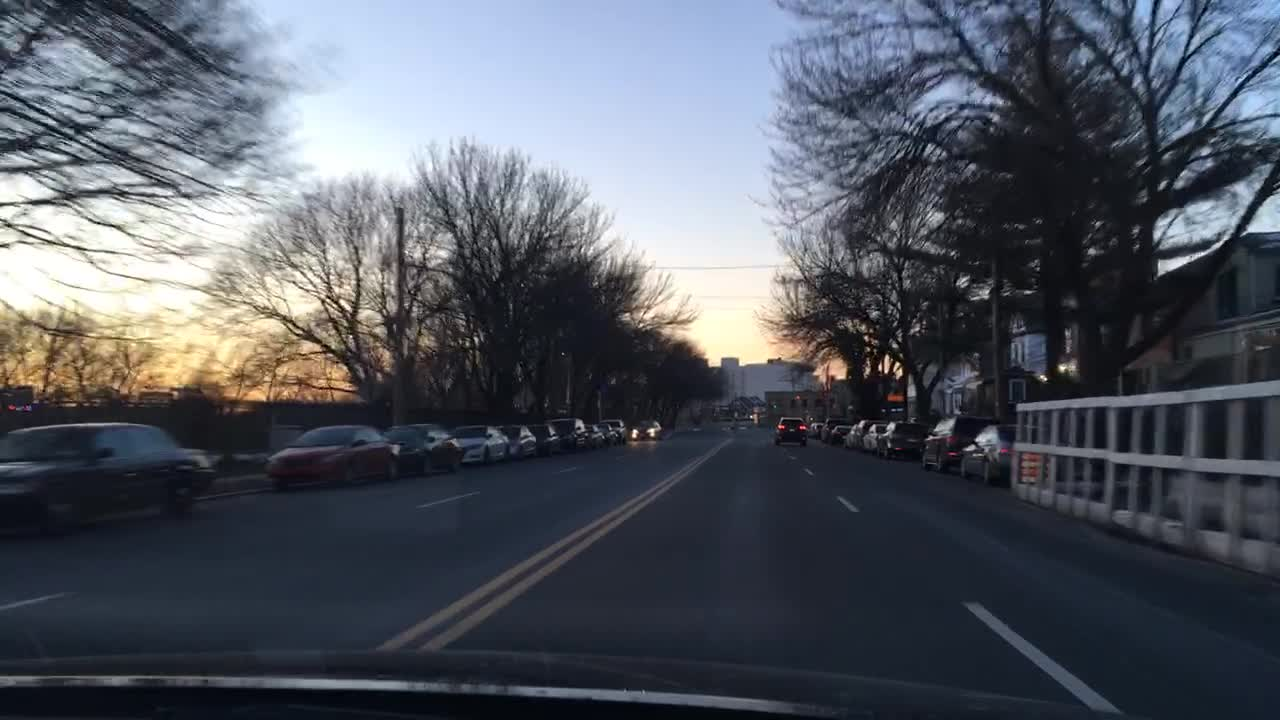car: (0, 421, 218, 534), (267, 426, 399, 487), (959, 425, 1067, 482), (916, 416, 998, 473), (383, 425, 464, 473), (451, 426, 509, 462), (882, 421, 927, 457), (552, 417, 590, 450), (841, 419, 884, 446), (772, 414, 807, 446), (527, 421, 559, 455), (502, 425, 538, 455), (860, 426, 889, 453), (598, 419, 627, 442), (823, 417, 850, 441), (629, 419, 661, 439), (581, 423, 606, 446), (826, 425, 853, 444), (595, 419, 616, 442), (805, 419, 821, 439)
